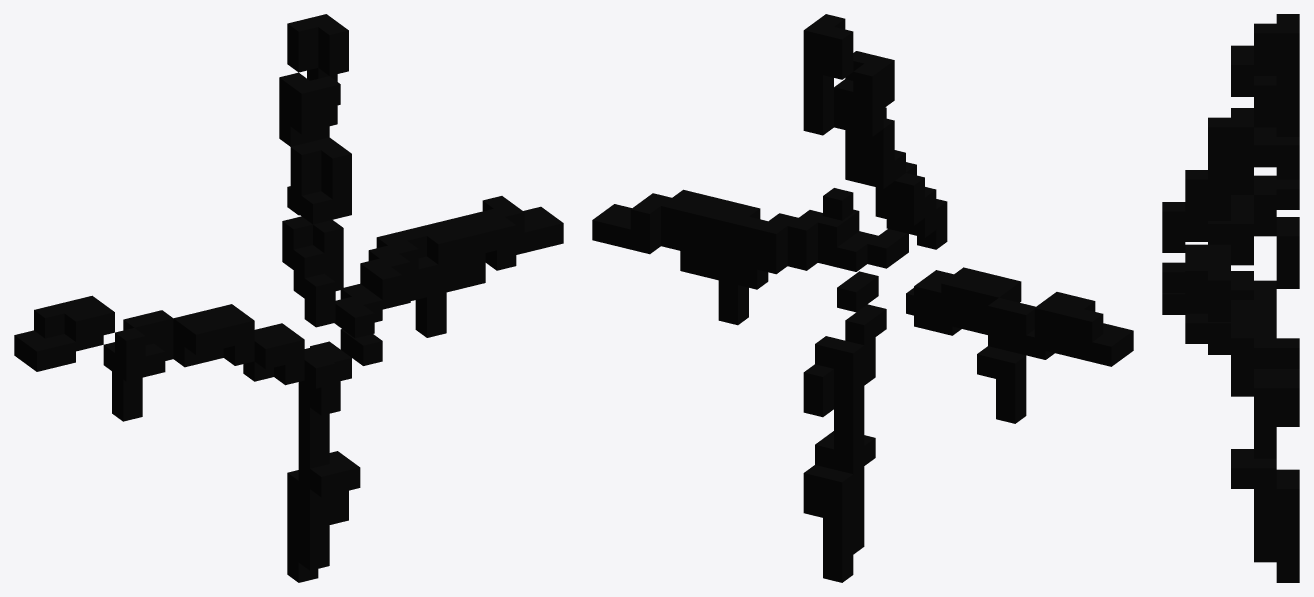
File: CrossHair.002.fbx
3 renders of one model, left to right at view 1: azimuth 30°, elevation 25°; view 2: azimuth 150°, elevation 25°; view 3: azimuth 270°, elevation 25°, orthographic. The views are drawn at different scales.
Visible parts, largest first — view 1: CrossHair.002; view 2: CrossHair.002; view 3: CrossHair.002.
Part boxes in pixels (box(x1,y1,x2,y2)): CrossHair.002: box(14, 14, 563, 582); CrossHair.002: box(592, 14, 1133, 582); CrossHair.002: box(1162, 14, 1299, 582).
Size of the model in its own units: 2.7 by 2.7 by 0.6.
